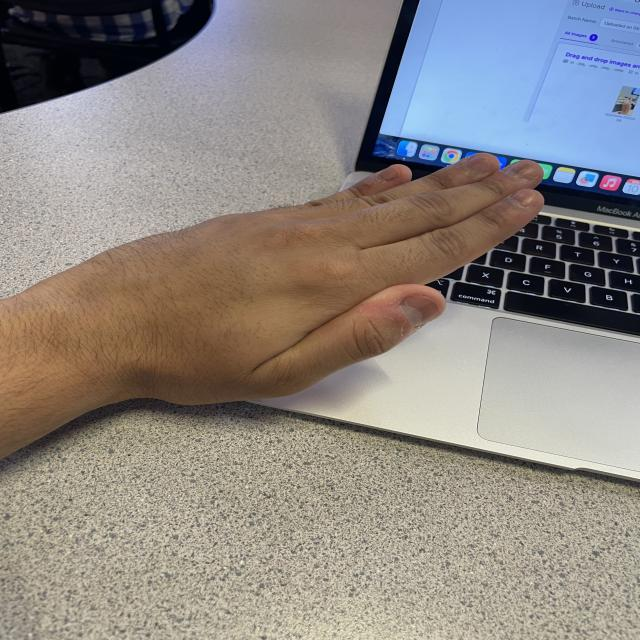keyboard-with-hands: (243, 179, 640, 486)
